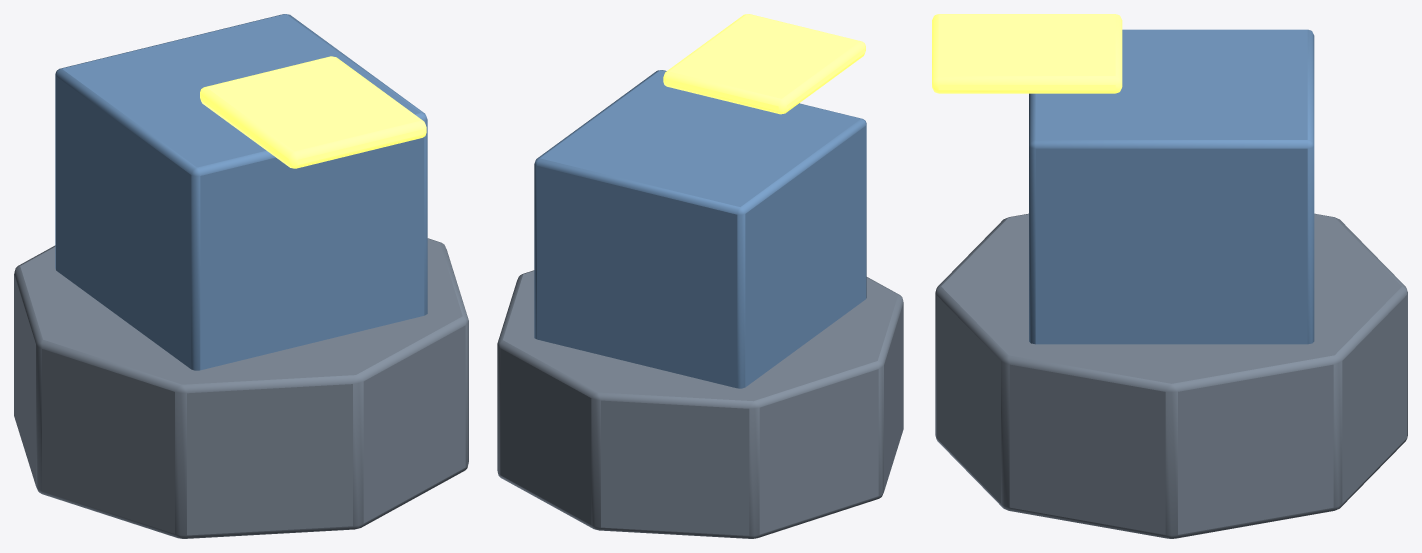
Rendered from barrackstower.glb.
3 views of the same model, side by side, from view 1: azimuth 30°, elevation 25°; view 2: azimuth 150°, elevation 25°; view 3: azimuth 270°, elevation 25° (orthographic). The views are drawn at different scales.
Parts seen in each view (by area): view 1: Keep, Base, Flag; view 2: Keep, Base, Flag; view 3: Base, Keep, Flag.
Part boxes in pixels (x1,y1,x2,y2): Keep: (55,14,427,370); Base: (14,238,468,538); Flag: (200,56,426,168); Keep: (534,70,866,388); Base: (497,270,903,538); Flag: (663,14,865,114); Base: (935,213,1407,538); Keep: (1029,29,1314,344); Flag: (932,14,1122,93).
Size of the model in its own units: 2.48 by 2.3 by 2.5.
